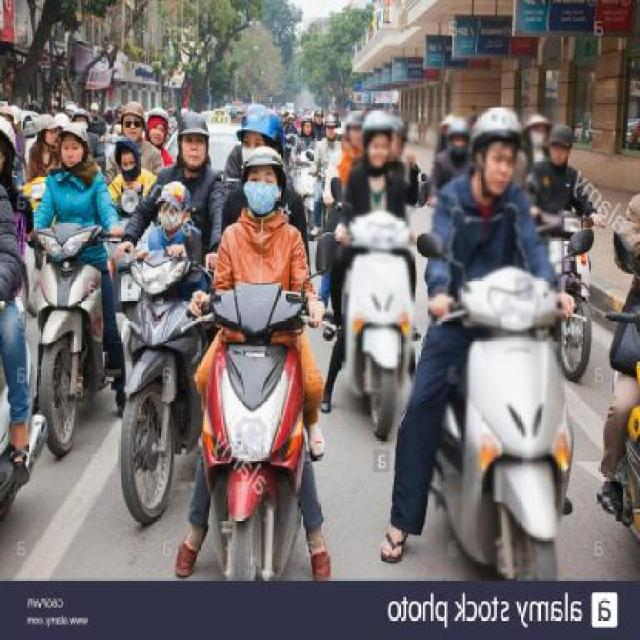helmet: (463, 104, 526, 200), (239, 140, 291, 223), (172, 112, 216, 180), (45, 126, 101, 178)
motorcycle: (394, 101, 636, 626), (211, 143, 329, 581), (122, 85, 222, 522), (13, 99, 127, 456)
